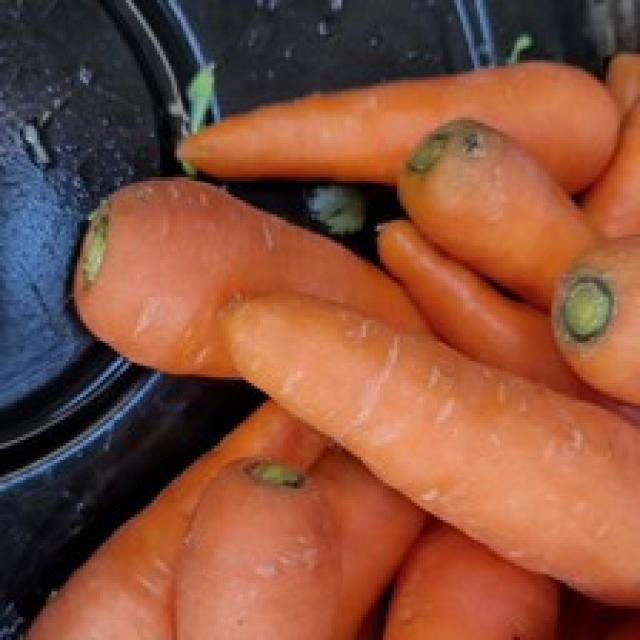Fresh_Carrot: (217, 274, 640, 640)
